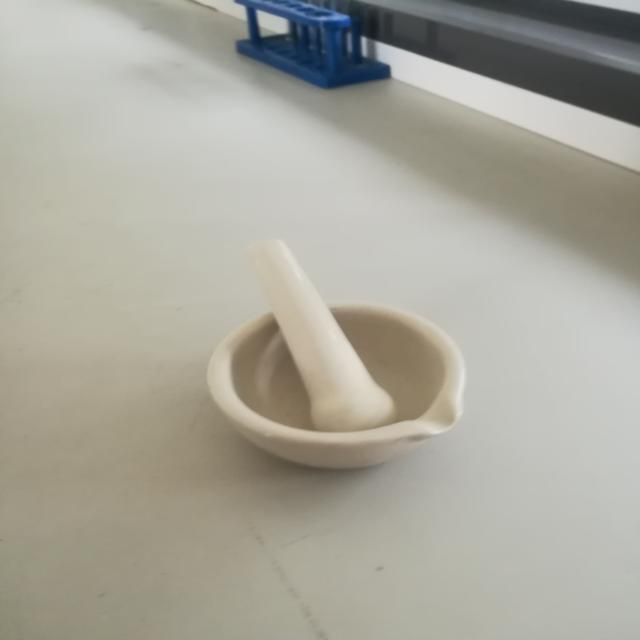Porcelain_Mortar Pestle: (203, 191, 495, 498)
